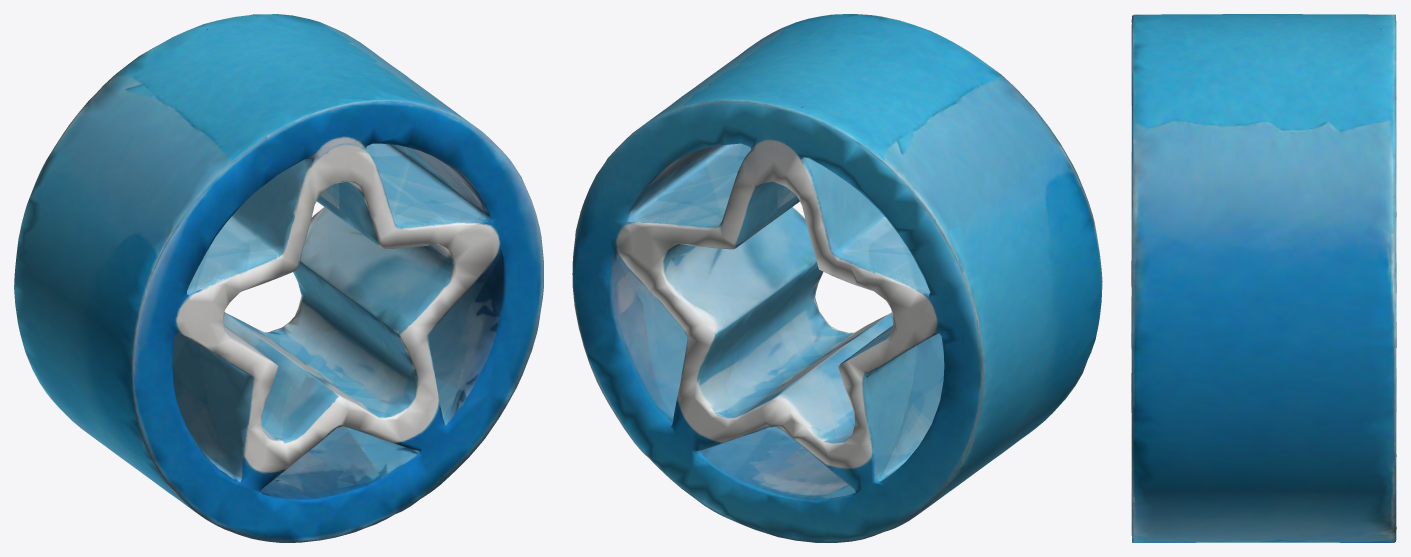
The model's file is events.glb.
3 renders of one model, left to right at view 1: azimuth 30°, elevation 25°; view 2: azimuth 150°, elevation 25°; view 3: azimuth 270°, elevation 25°, orthographic. The views are drawn at different scales.
Size of the model in its own units: 2 by 2 by 1.01.
Materials: 1 (1 with a texture image).
